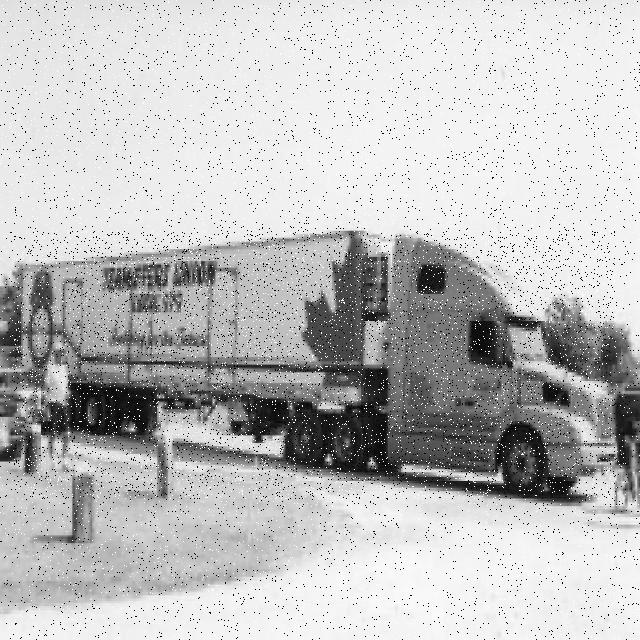Box Truck: (14, 231, 616, 499)
